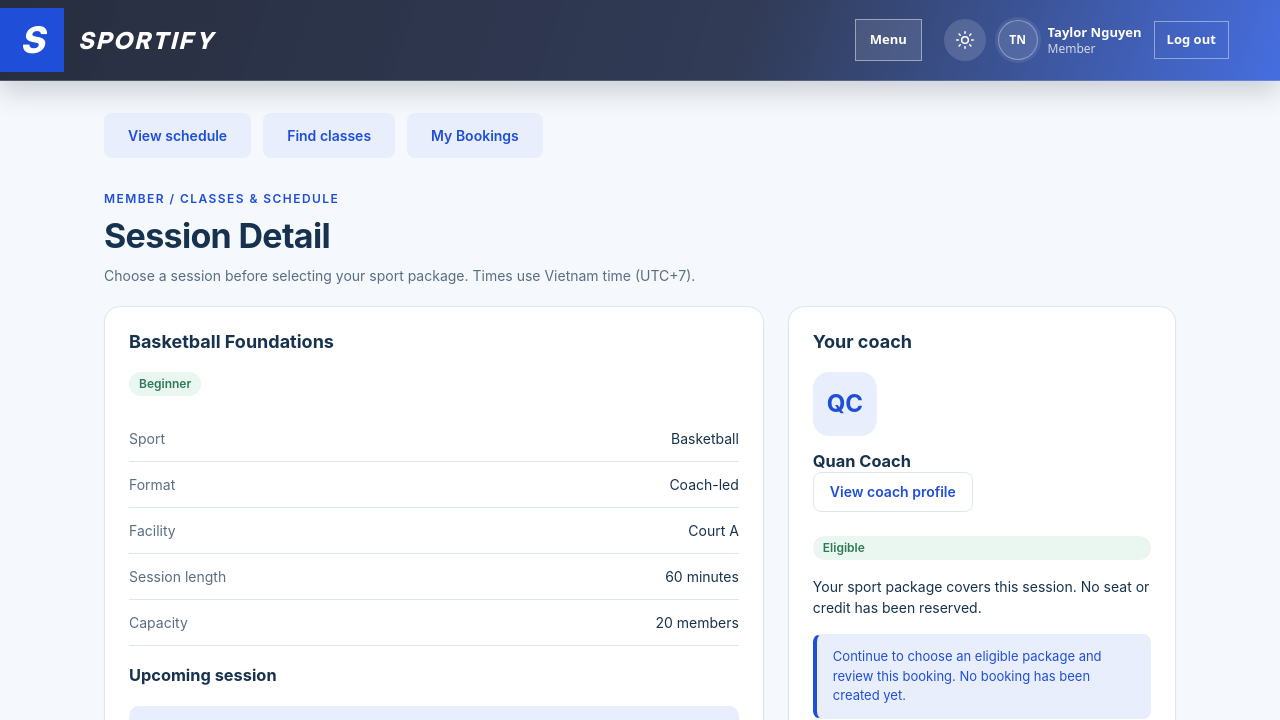
Test: FE-08 session detail › loads public profile only when opened, shows real certificate status and restores focus on Escape
Click the button "View coach profile" at (893, 492), box [813,472,973,512]
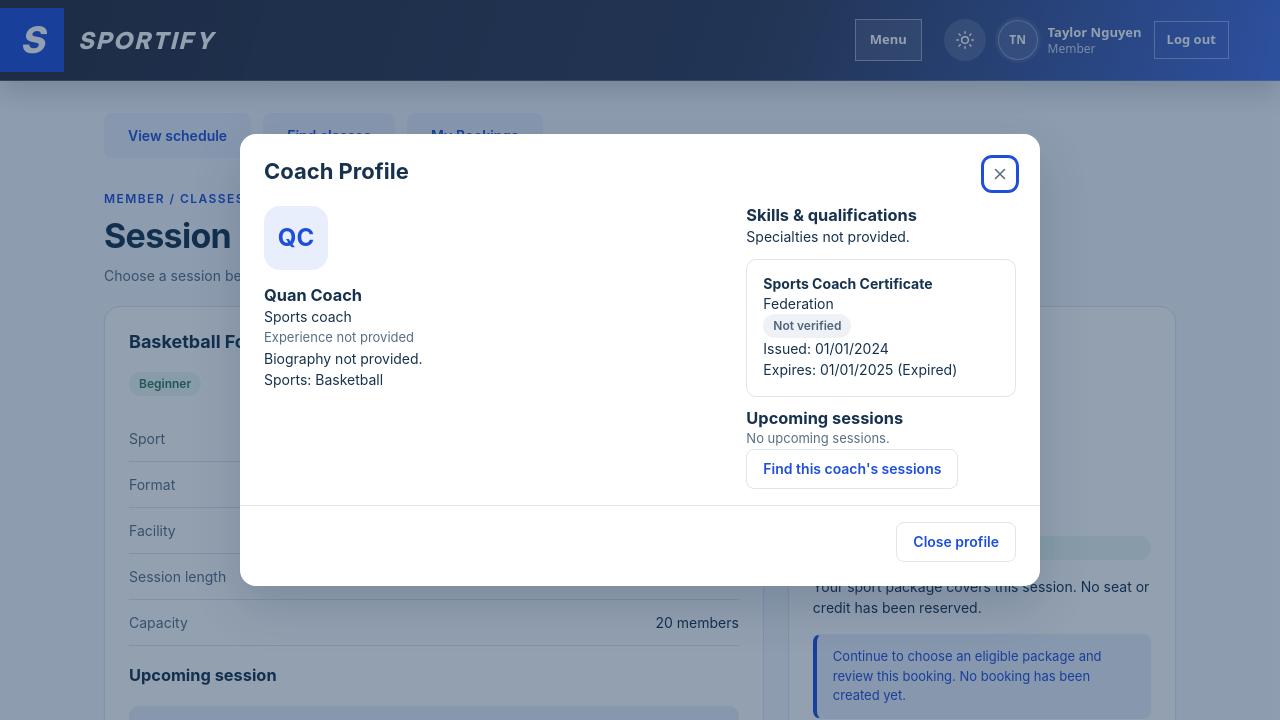
Result: the heading "Sports Coach Certificate" is shown at [763,275,932,292]
Result: the text "Not verified" is shown at [763,314,851,338]
Result: the text "Experience not provided" is shown at [264,329,414,345]
Press Escape
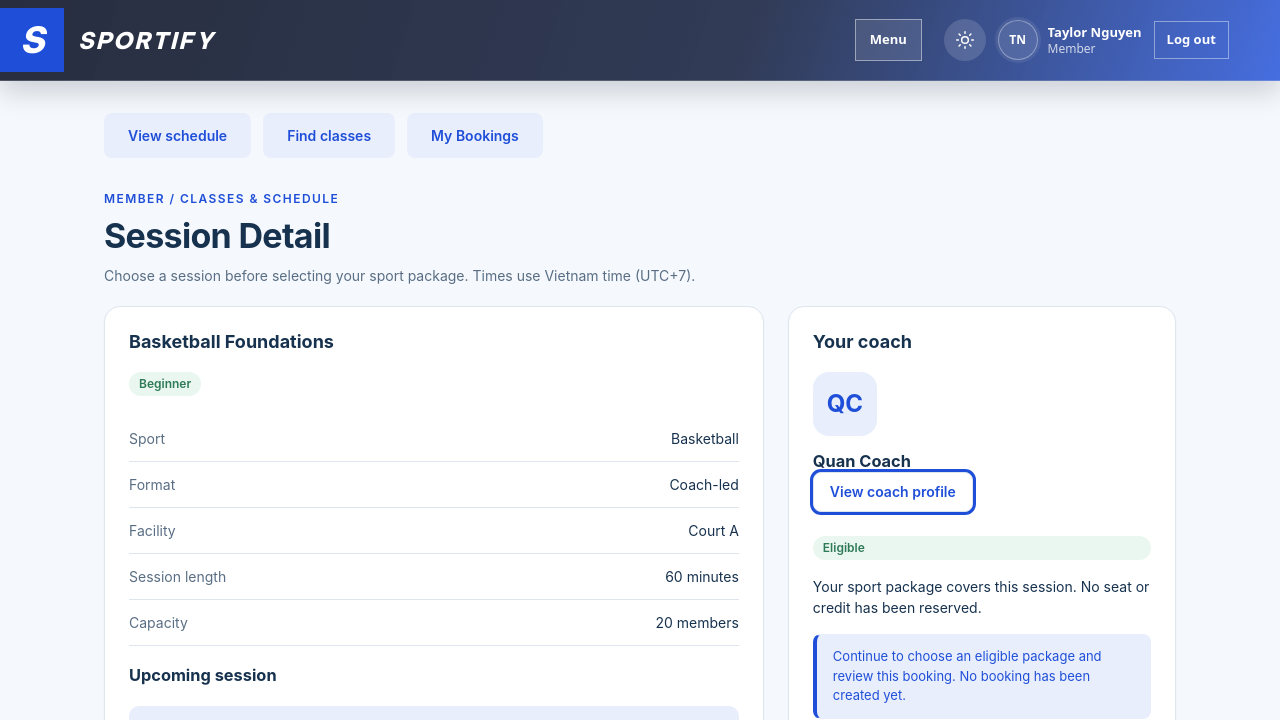
Result: the dialog is gone
